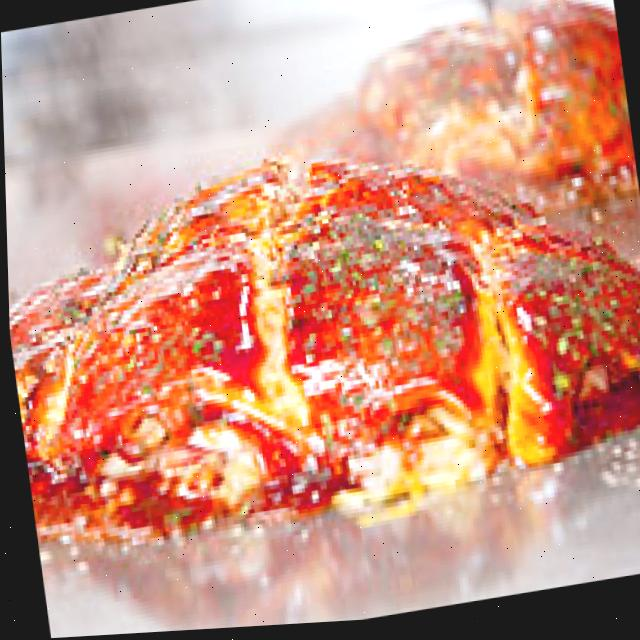蛋糕甜品: (2, 77, 640, 594)
